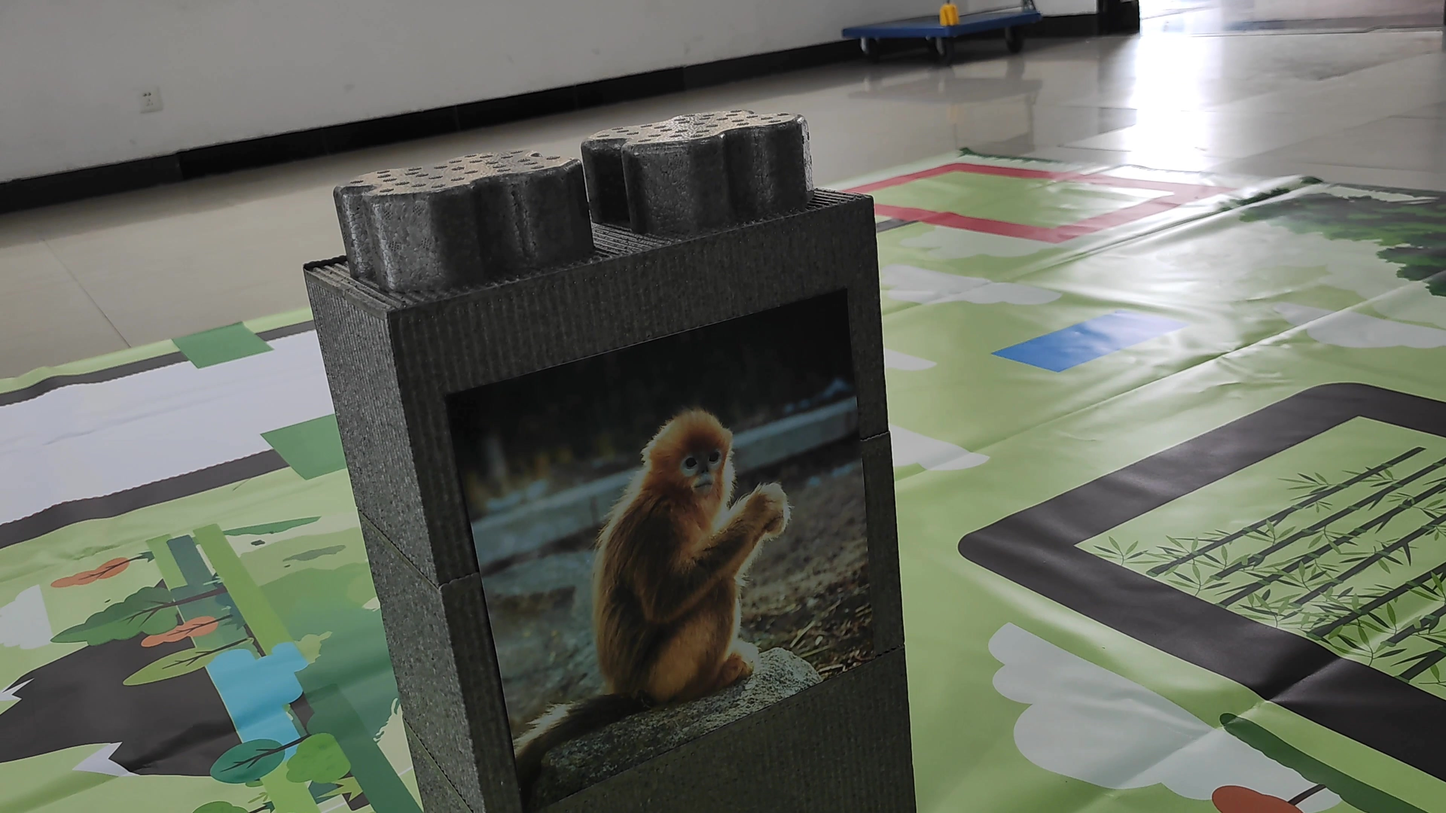monkey: (490, 387, 825, 766)
